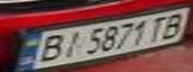1: (130, 17, 154, 46)
5: (84, 25, 106, 55)
7: (115, 20, 139, 50)
8: (100, 23, 121, 53)
B: (30, 32, 69, 63), (157, 9, 193, 39)
I: (57, 29, 87, 60)
T: (145, 12, 175, 42)
